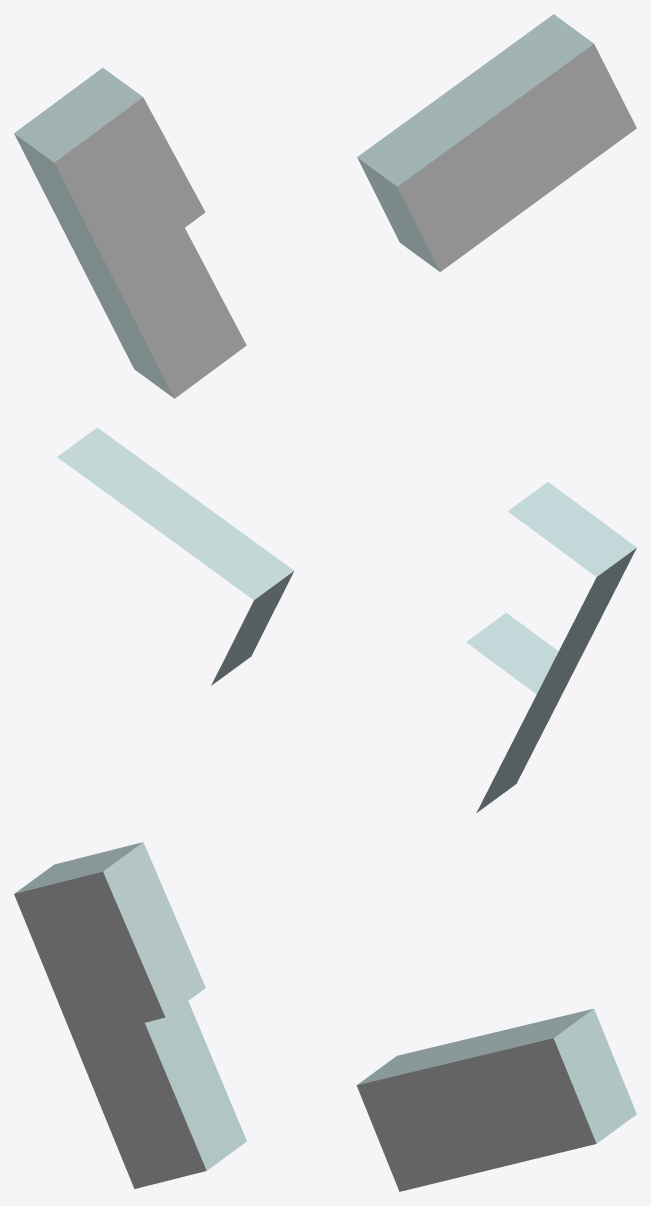
The picture shows the model from 3 angles, top to bottom: view 1: azimuth 30°, elevation 25°; view 2: azimuth 150°, elevation 25°; view 3: azimuth 330°, elevation 25°; orthographic projection.
Parts seen in each view (by area): view 1: 0_1_1_2_2_1_3_0_3; view 2: 0_1_1_2_2_1_3_0_3; view 3: 0_1_1_2_2_1_3_0_3.
Boxes of the visible parts, box(x1,y1,x2,y2) form: 0_1_1_2_2_1_3_0_3: box(14, 14, 636, 398); 0_1_1_2_2_1_3_0_3: box(57, 427, 636, 812); 0_1_1_2_2_1_3_0_3: box(14, 842, 636, 1191).
Size of the model in its own units: 24.99 by 12.69 by 3.04.
